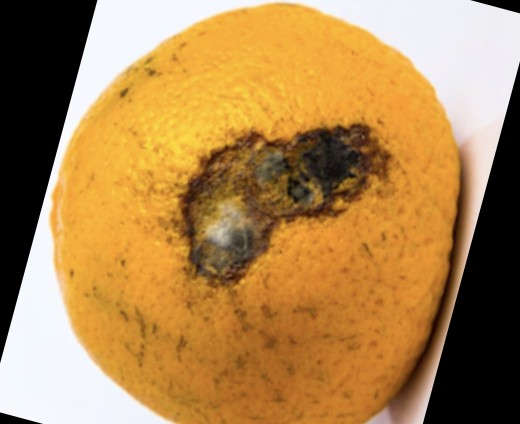rotten_orange: (51, 4, 459, 424)
